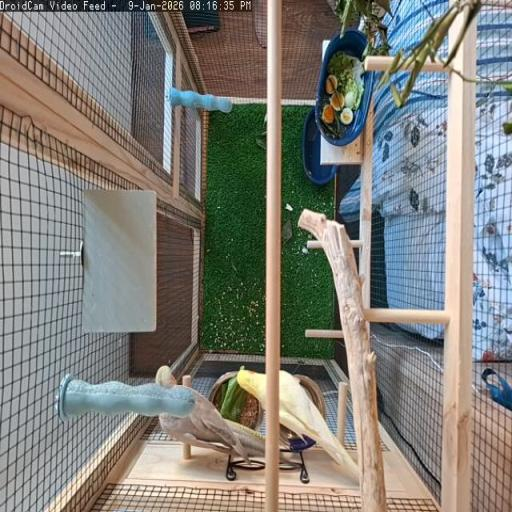bebedero: (295, 374, 326, 419), (281, 428, 294, 441)
comedero: (210, 372, 262, 427)
ninfa: (279, 371, 356, 471), (161, 389, 264, 461), (236, 368, 269, 411), (157, 366, 171, 386)
